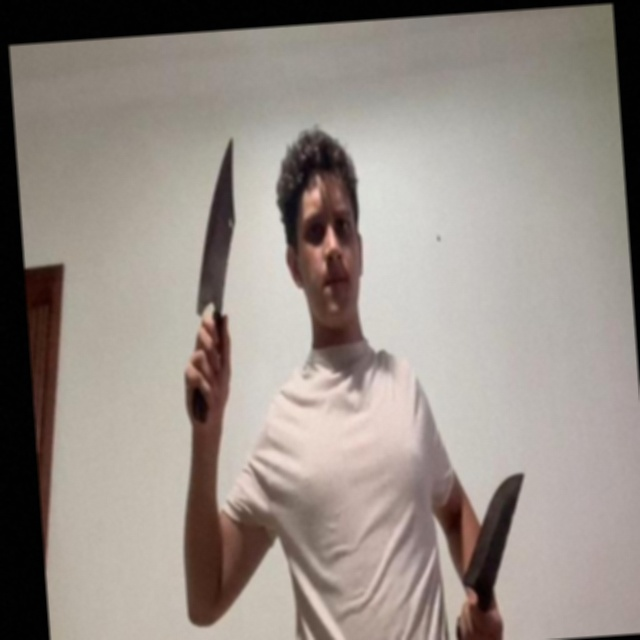Sharp-Object: (186, 135, 246, 314), (455, 469, 532, 586)
